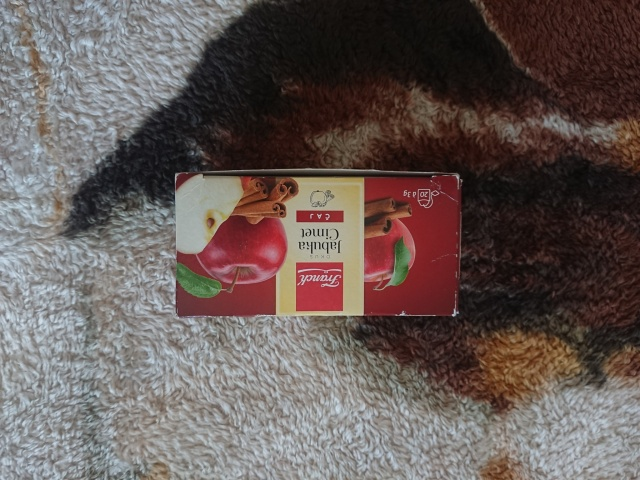Franck Apple Cinnamon Tea 60g: (171, 165, 465, 321)
